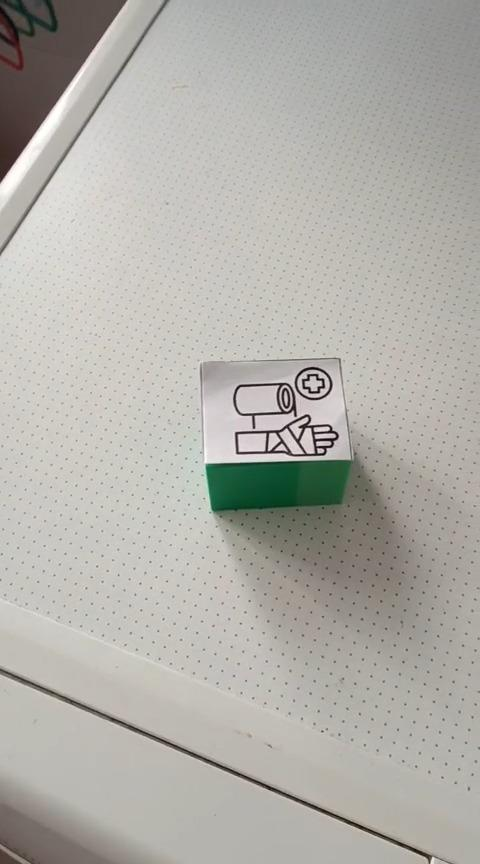Bandages: (198, 356, 353, 512)
